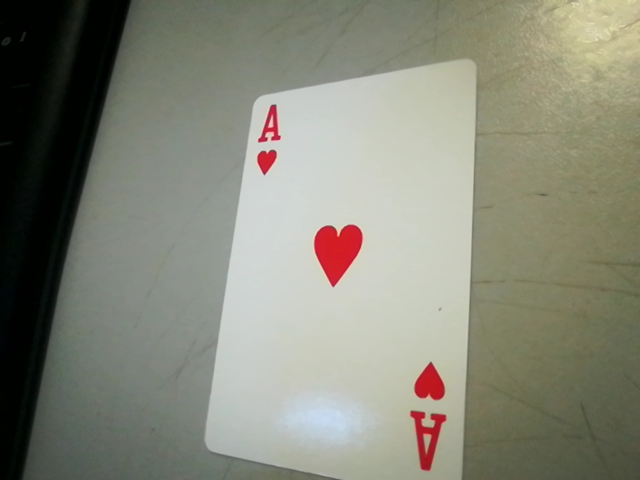hx a: (404, 357, 458, 480)
